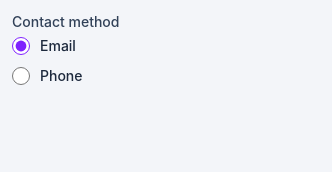
RadioGroup › selects the default value and reports a user selection
Expected: the element "Contact method" is shown, [12, 13, 120, 85]
Expected: the radio button labelled "Email" is checked, [12, 37, 30, 55]
Click the radio button labelled "Phone". click: (21, 76)
box: [12, 67, 30, 85]
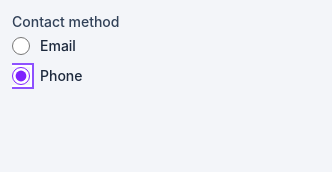
Expected: the radio button labelled "Phone" is checked, [12, 67, 30, 85]
Expected: the radio button labelled "Email" is not checked, [12, 37, 30, 55]
